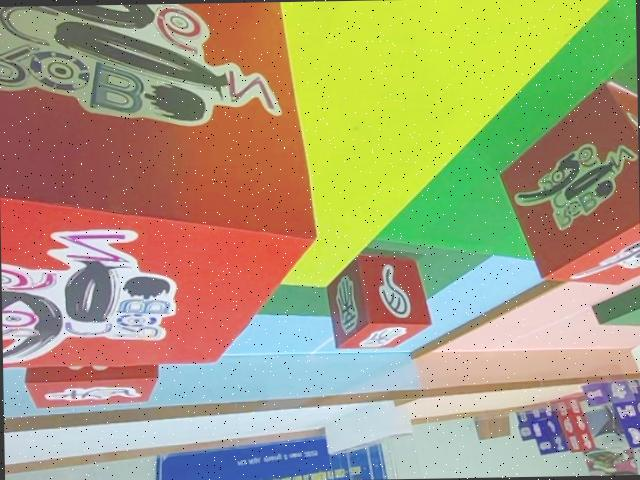R1: (0, 0, 317, 366), (499, 82, 640, 284)
R2 Fake: (326, 247, 432, 351)
